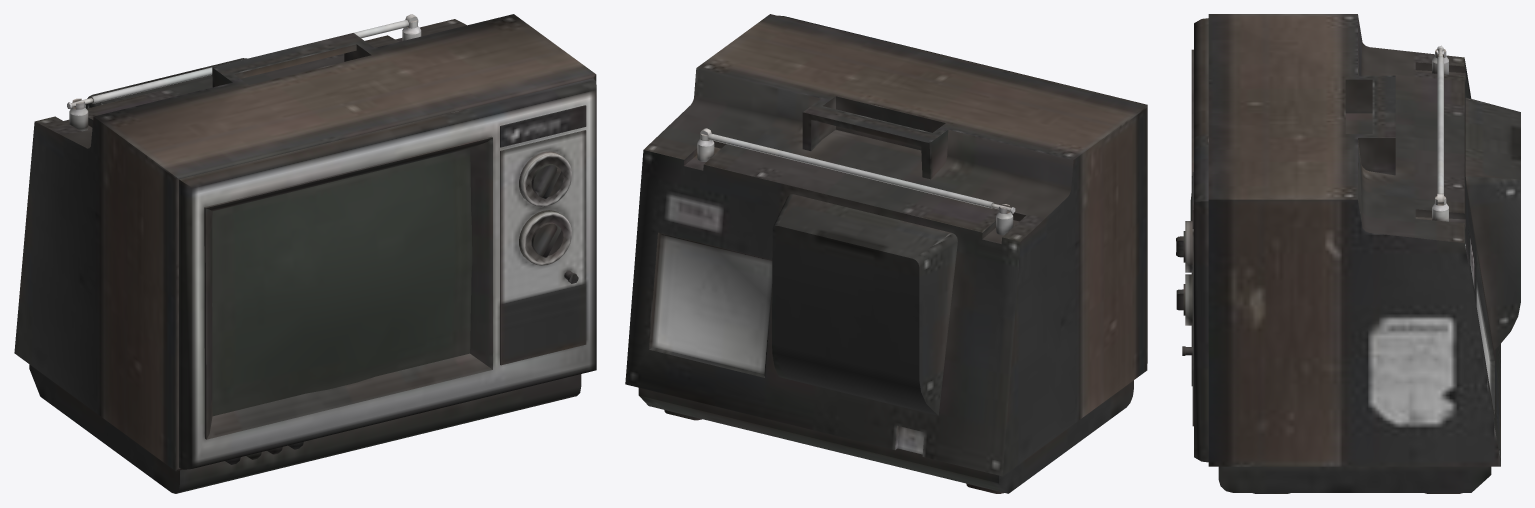
Rendered from television_01.glb.
The picture shows the model from 3 angles, left to right: view 1: azimuth 30°, elevation 25°; view 2: azimuth 150°, elevation 25°; view 3: azimuth 270°, elevation 25°; orthographic projection. The views are drawn at different scales.
Parts seen in each view (by area): view 1: Television_01; view 2: Television_01; view 3: Television_01.
Part boxes in pixels (x1,y1,x2,y2): Television_01: (14, 14, 596, 493); Television_01: (625, 14, 1147, 493); Television_01: (1176, 14, 1520, 493).
Size of the model in its own units: 0.6 by 0.4568 by 0.4708.
1 material, 1 textured.
